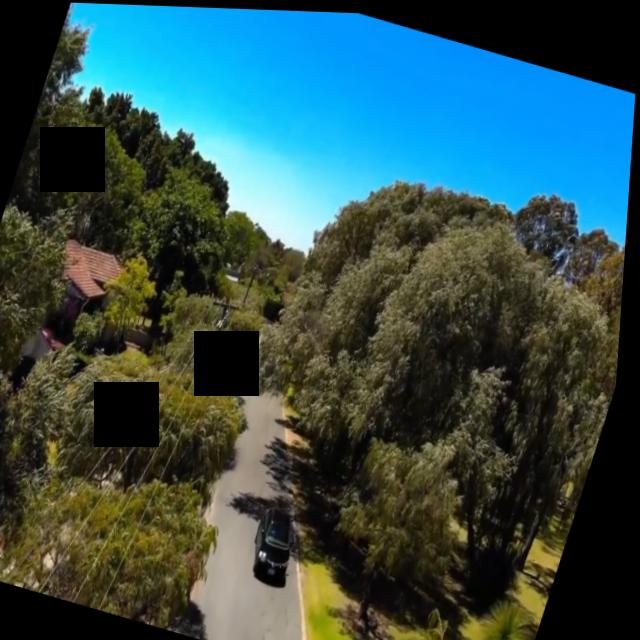Building: (0, 208, 148, 396)
Pole: (199, 292, 240, 388), (242, 264, 264, 306)
Tree: (221, 176, 631, 613), (0, 19, 140, 576), (4, 346, 251, 630), (0, 94, 243, 293)
Vehicle: (246, 489, 317, 588)
